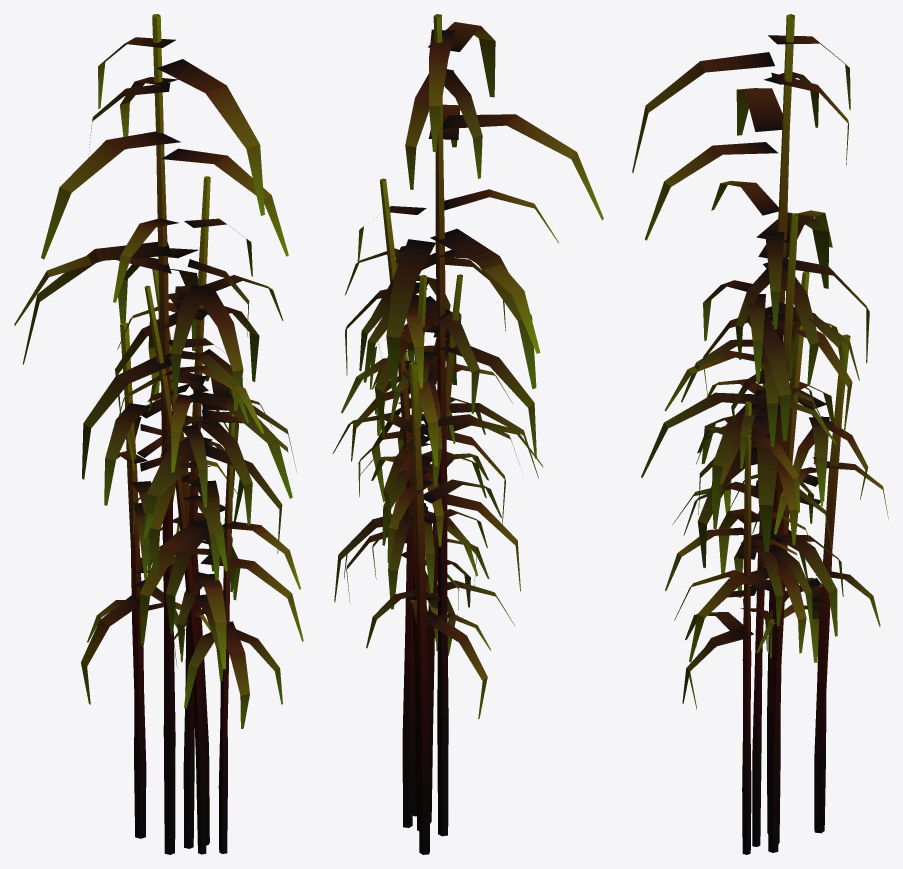
Rendered from bamboo_b.glb.
3 renders of one model, left to right at view 1: azimuth 30°, elevation 25°; view 2: azimuth 150°, elevation 25°; view 3: azimuth 270°, elevation 25°, orthographic.
Visible parts, largest first — view 1: bamboo_b; view 2: bamboo_b; view 3: bamboo_b.
Part boxes in pixels (x1,y1,x2,y2): bamboo_b: [14, 14, 303, 854]; bamboo_b: [332, 14, 603, 854]; bamboo_b: [632, 14, 888, 854].
Size of the model in its own units: 1.87 by 5.95 by 1.7.
Materials: 1 (1 with a texture image).
